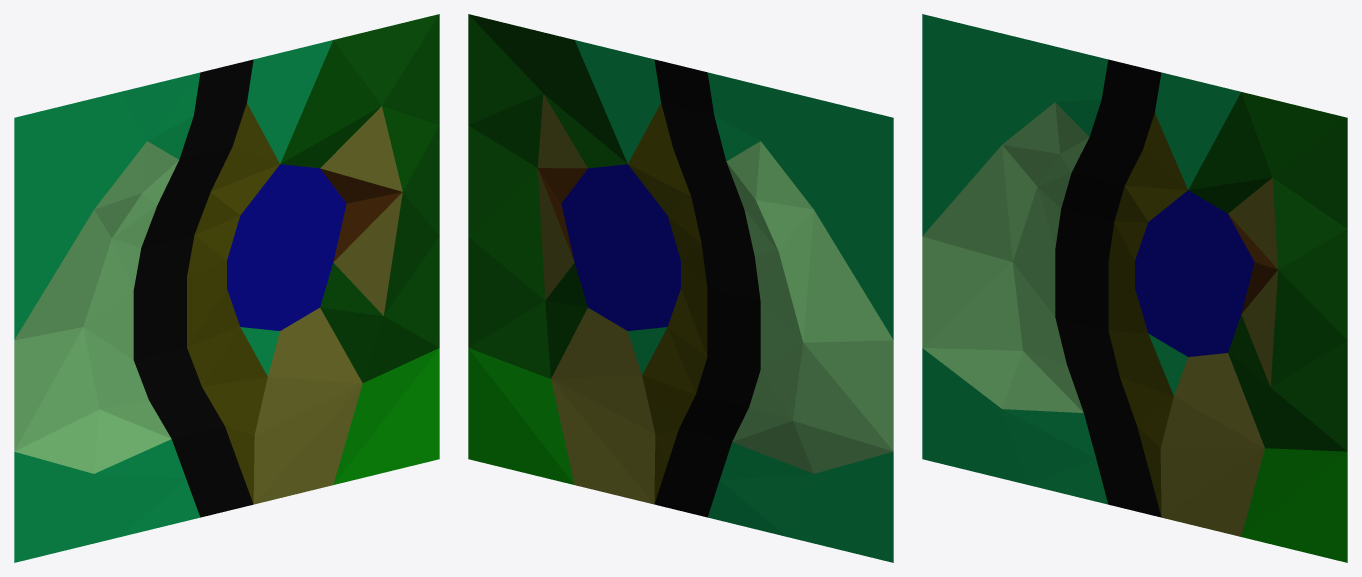
Rendered from tiles2_31.obj.
The picture shows the model from 3 angles, left to right: view 1: azimuth 30°, elevation 25°; view 2: azimuth 150°, elevation 25°; view 3: azimuth 330°, elevation 25°; orthographic projection.
Parts seen in each view (by area): view 1: tiles2_31; view 2: tiles2_31; view 3: tiles2_31.
Part boxes in pixels (x1,y1,x2,y2): tiles2_31: [14, 14, 439, 562]; tiles2_31: [468, 14, 893, 562]; tiles2_31: [922, 14, 1347, 562].
Bounding box in the file's own units: 4.1 × 4.1 × 0.45.
